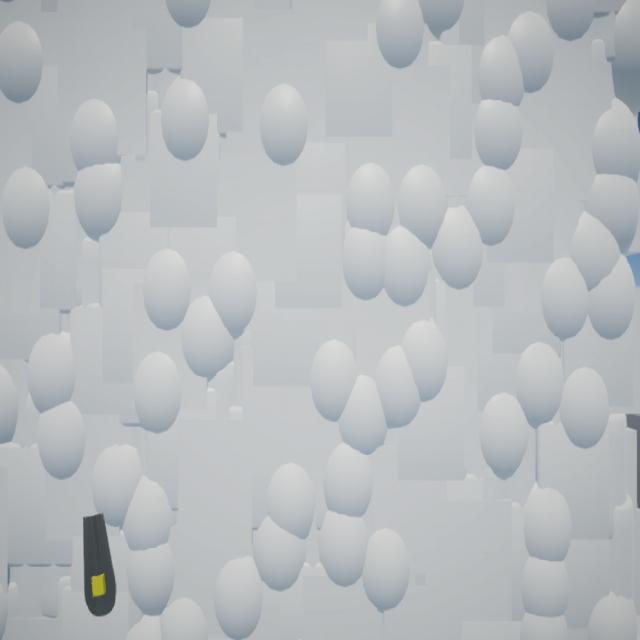handle_folk: (84, 514, 118, 617)
